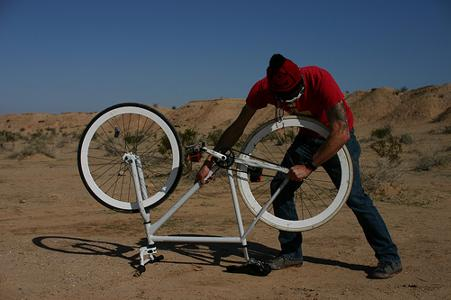person: (193, 53, 404, 280)
